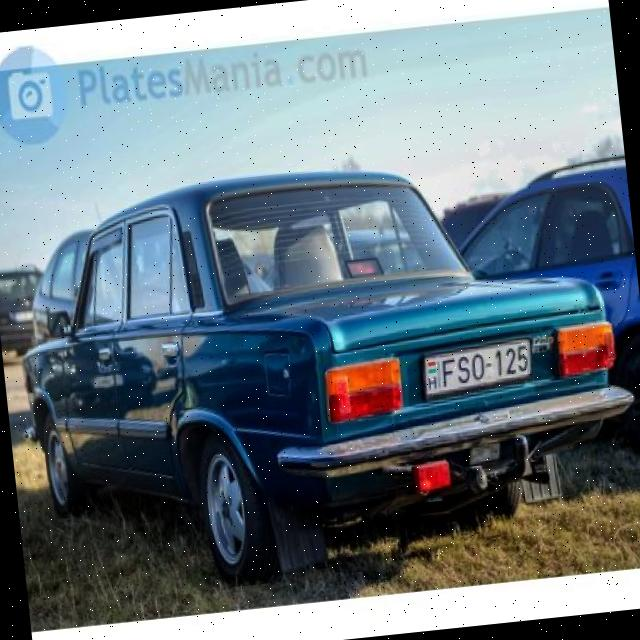licence: (414, 334, 537, 398)
